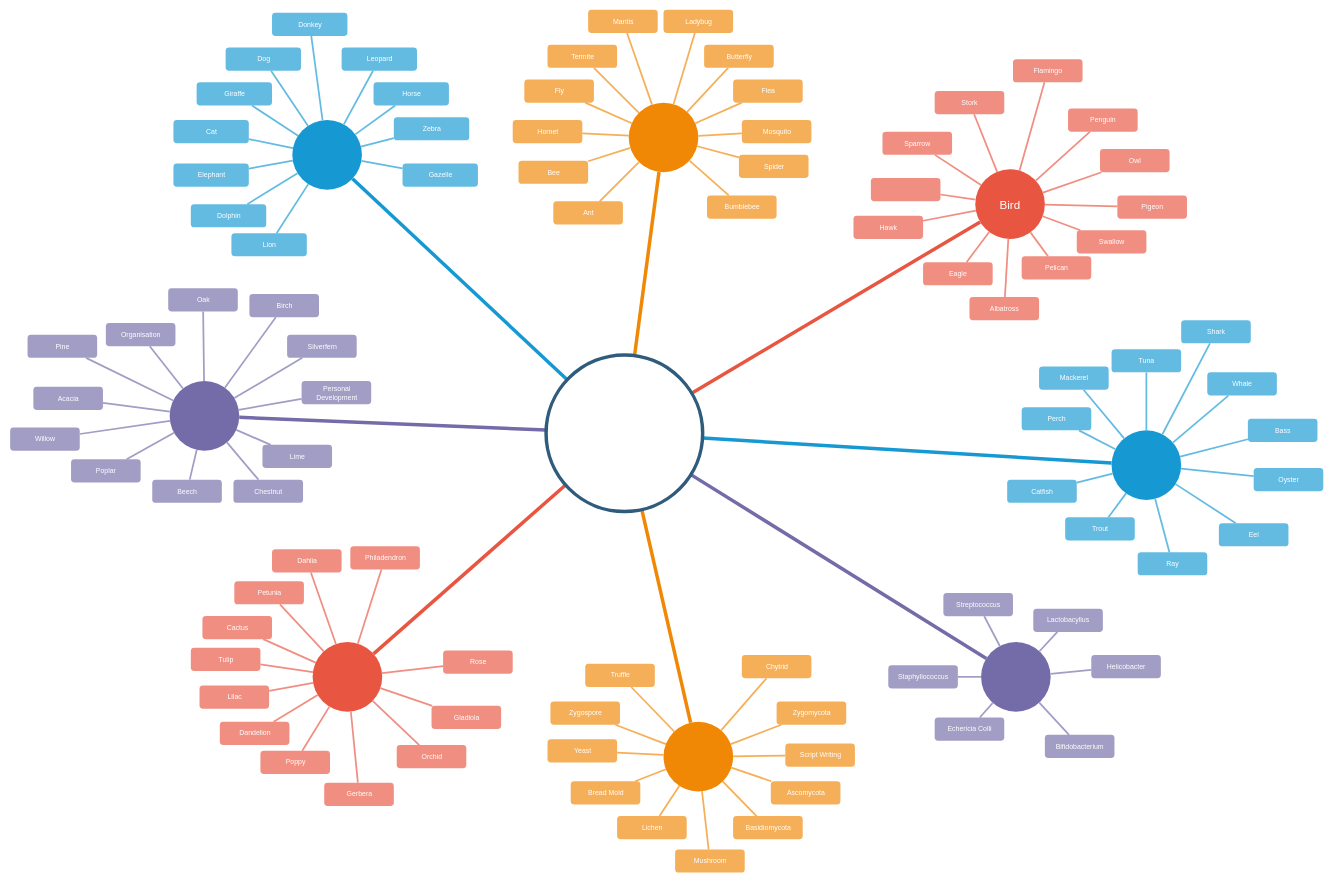
Image size: 1333x883. Some labels were removed from this diagram. The centre of each missing label's shape, as x and y in pixels:
Bacteria: point 1015,676
Falcon: point 905,189
Fish: point 1146,465
Flower: point 347,676
Fungi: point 698,756
Insect: point 663,137
LIVING BEINGS: point 624,433
Mammal: point 327,154
Tree: point 204,415
